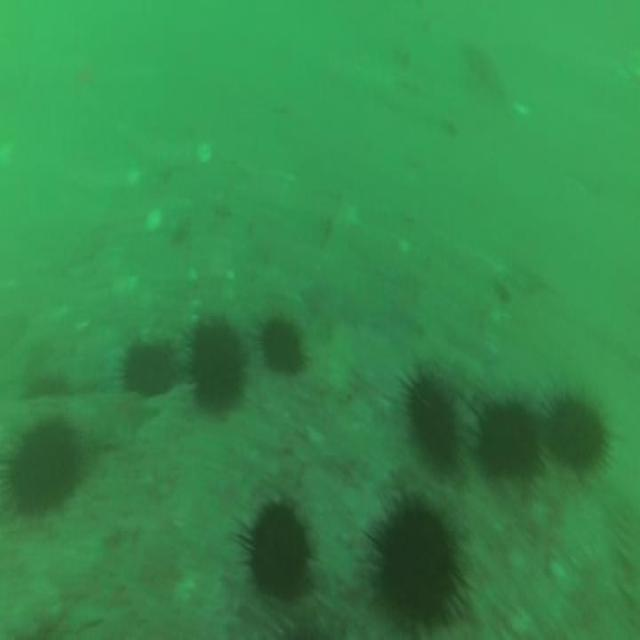echinus: (379, 509, 455, 629), (9, 422, 78, 515), (248, 504, 308, 599), (474, 398, 540, 484), (190, 324, 246, 416), (406, 376, 459, 471), (550, 397, 606, 471), (126, 335, 171, 397), (262, 319, 302, 378)
